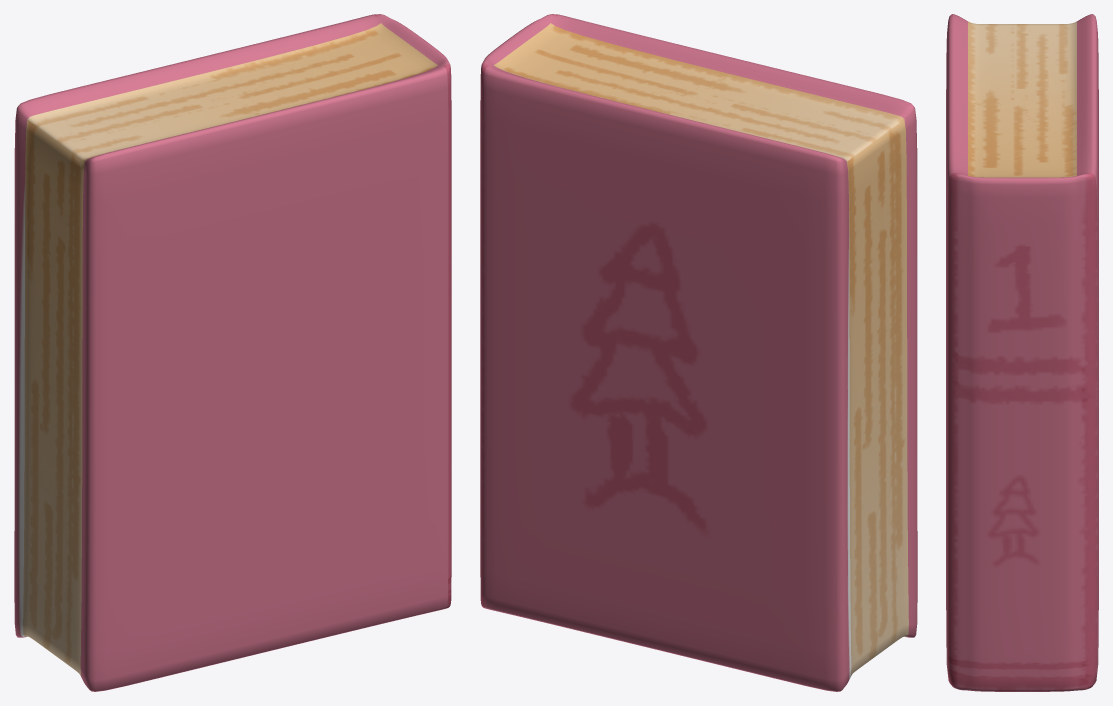
Rendered from level01.fbx.
3 views of the same model, side by side, from view 1: azimuth 30°, elevation 25°; view 2: azimuth 150°, elevation 25°; view 3: azimuth 270°, elevation 25° (orthographic). The views are drawn at different scales.
Parts seen in each view (by area): view 1: Cube; view 2: Cube; view 3: Cube.
Part boxes in pixels (x1,y1,x2,y2): Cube: [14, 14, 451, 691]; Cube: [480, 14, 917, 691]; Cube: [946, 14, 1098, 691].
Bounding box in the file's own units: 7.54 × 20.27 × 28.04.
